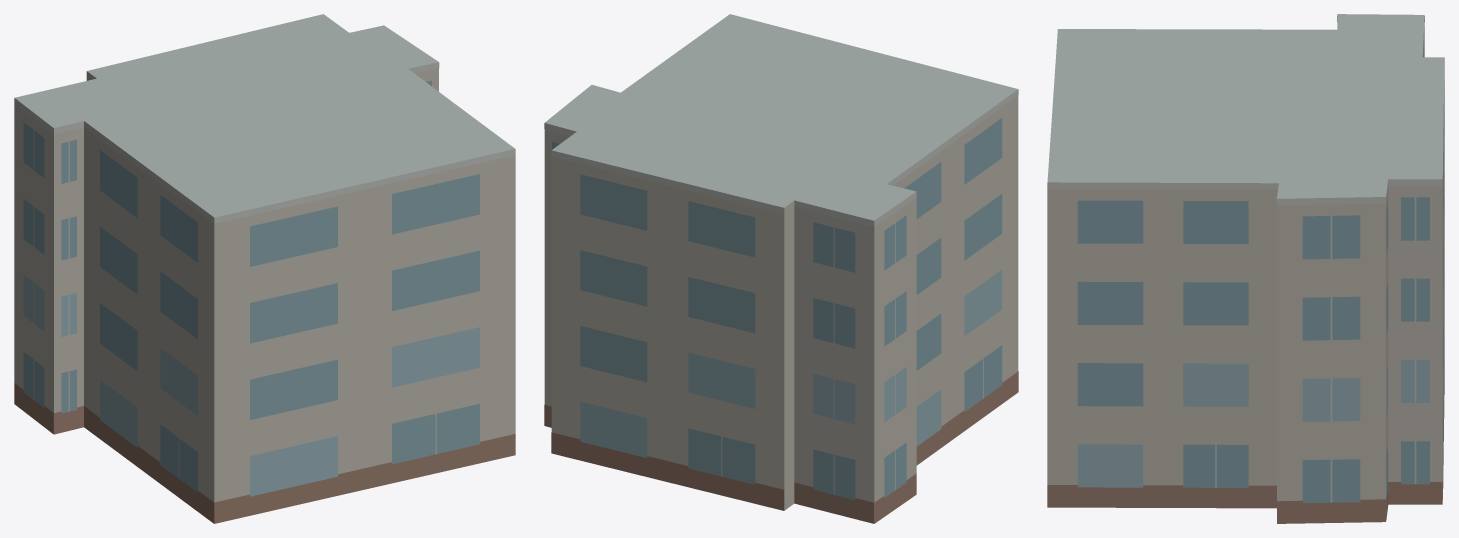
File: survey-upis-32744793.glb
3 renders of one model, left to right at view 1: azimuth 30°, elevation 25°; view 2: azimuth 150°, elevation 25°; view 3: azimuth 270°, elevation 25°, orthographic. The views are drawn at different scales.
Visible parts, largest first — view 1: survey-upis-32744793.tmp; view 2: survey-upis-32744793.tmp; view 3: survey-upis-32744793.tmp.
Part boxes in pixels (x1,y1,x2,y2): survey-upis-32744793.tmp: [14, 14, 515, 523]; survey-upis-32744793.tmp: [544, 14, 1018, 523]; survey-upis-32744793.tmp: [1047, 14, 1444, 523].
Bounding box in the file's own units: 14.88 × 12.2 × 13.52.
